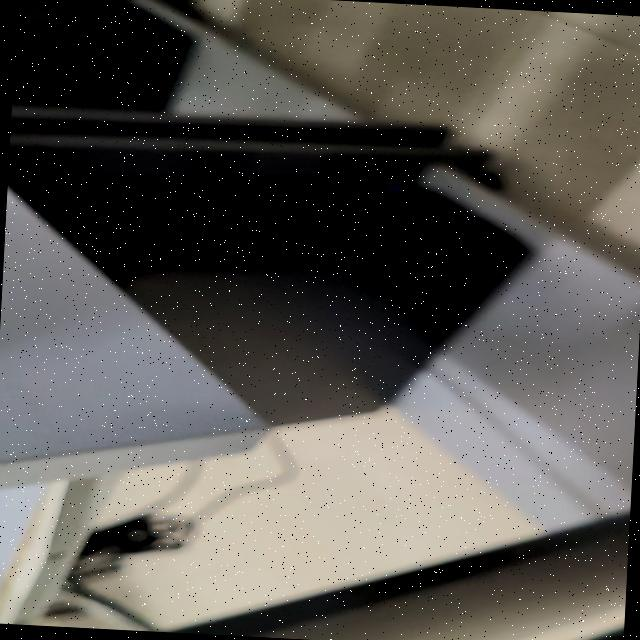Cpu: (12, 177, 527, 425), (11, 0, 191, 112)
